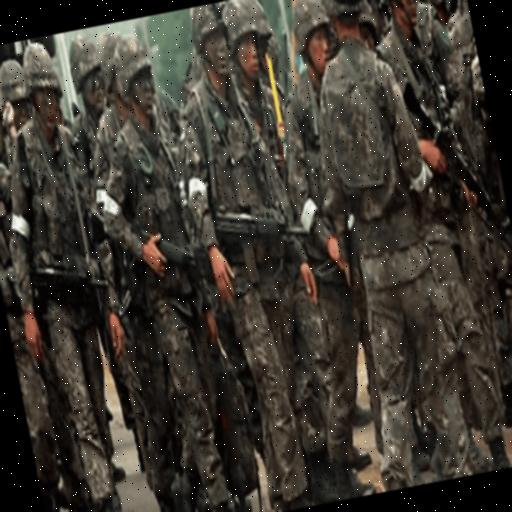korea army: (180, 0, 394, 510), (52, 24, 260, 512), (304, 0, 470, 488), (0, 41, 143, 512), (375, 0, 512, 466), (0, 73, 89, 512)
